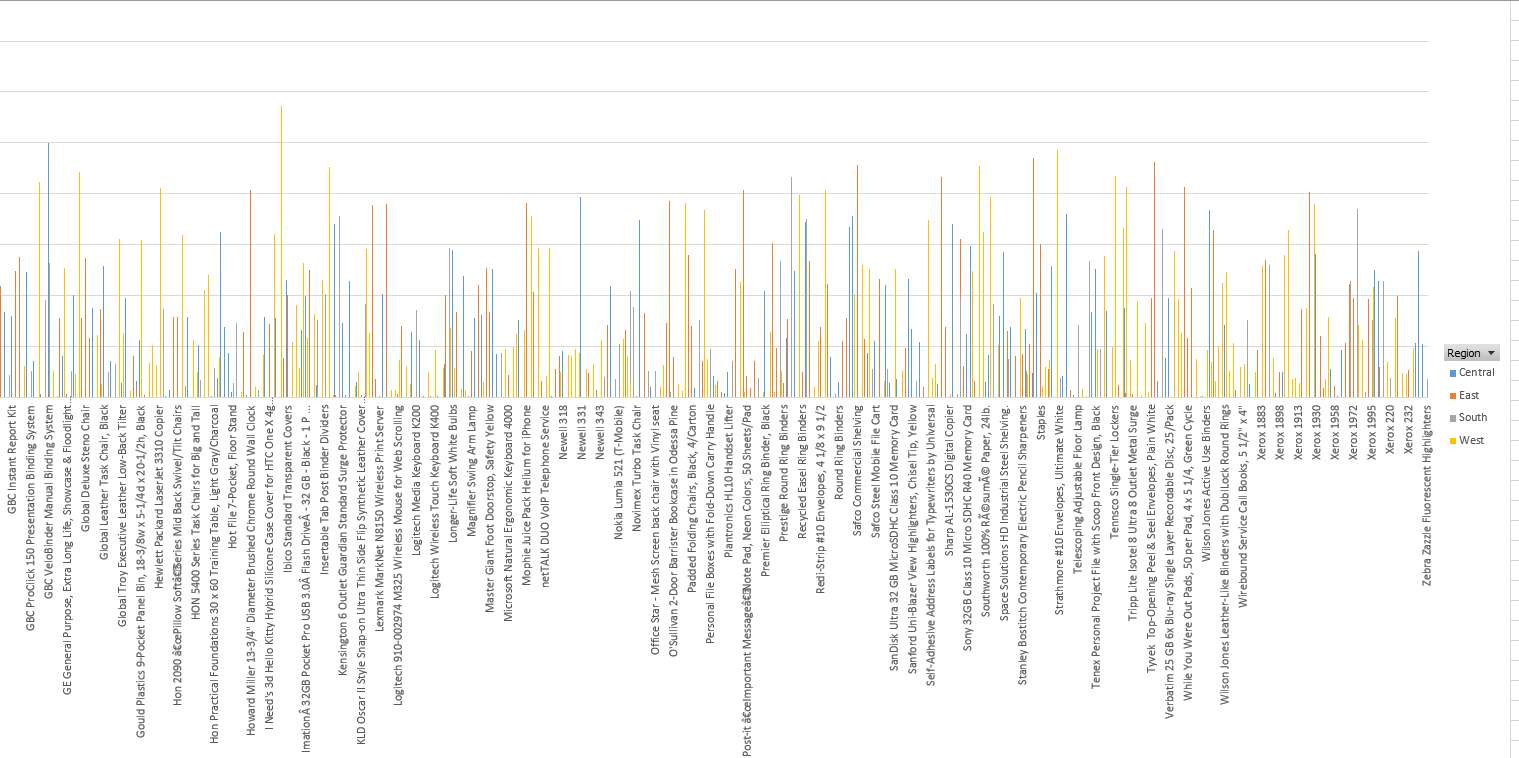

What the dashboard file says about the page in this screenshot:
{"tool":"powerbi","page":{"name":"Quantity Sold by Product Clustered Column Chart","canvas":[1280,720],"ordinal":1},"visuals":[{"type":"clusteredColumnChart","fields":{"Category":["sales data.Product Name"],"Y":["Sum(sales data.Quantity)"]},"box":[0,12.6,1280,707.5],"z":0}]}

Visuals, with their boxes on the page's 1280x720 design canvas (x1, y1, x2, y2). These are canvas units, not pixel positions in the 1519x758 screenshot, which may show the page scaled, cropped or inside an application window:
clusteredColumnChart - sales data.Product Name x Sum(sales data.Quantity): Rect(0, 13, 1280, 720)
